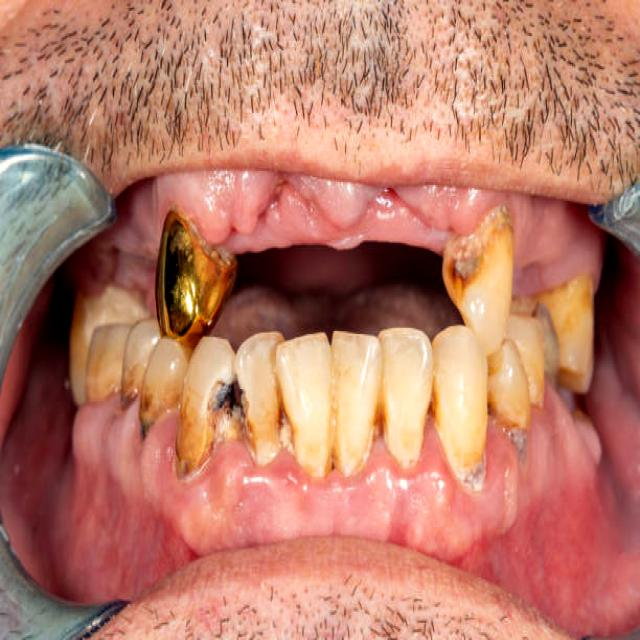calculus: (441, 208, 504, 297), (432, 395, 485, 489), (212, 383, 246, 441), (176, 424, 206, 474), (140, 391, 176, 431), (280, 405, 301, 467), (268, 387, 280, 466), (504, 428, 527, 460), (370, 389, 381, 450), (328, 389, 336, 472), (121, 378, 141, 406)
cariess: (177, 381, 270, 471)
gingivitis: (76, 416, 552, 566)
